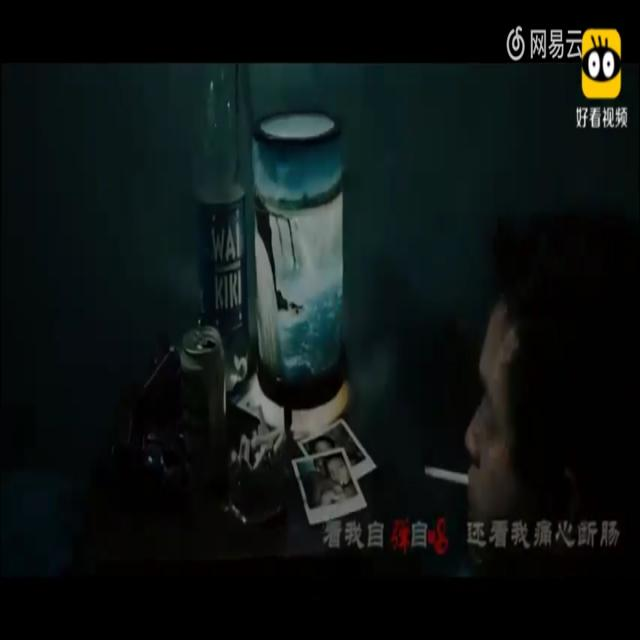cigarette: (421, 451, 465, 496)
